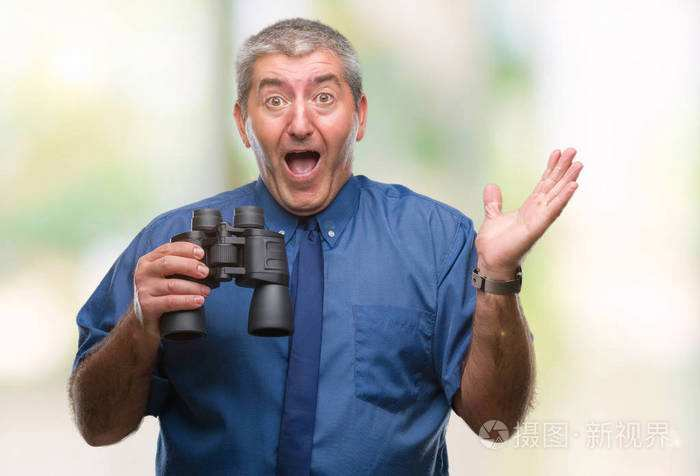no-phone: (472, 146, 587, 265)
